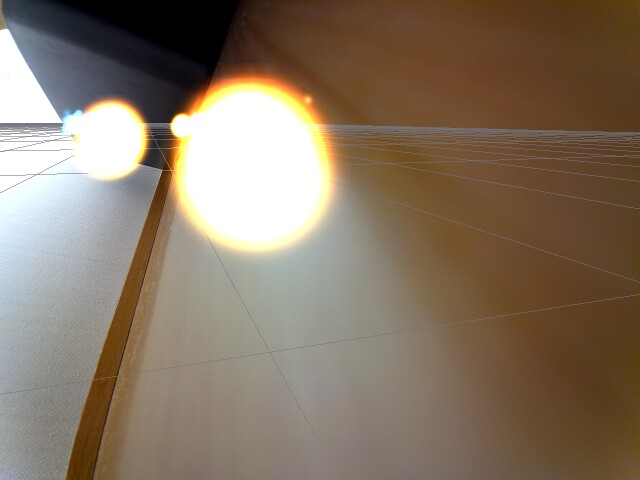firebig: (189, 66, 339, 259)
